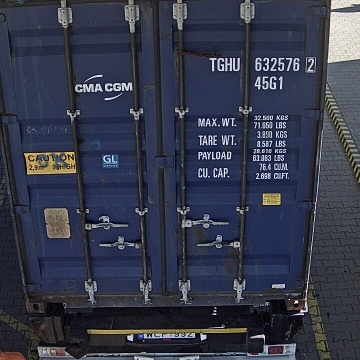serial_id: (209, 56, 316, 71)
